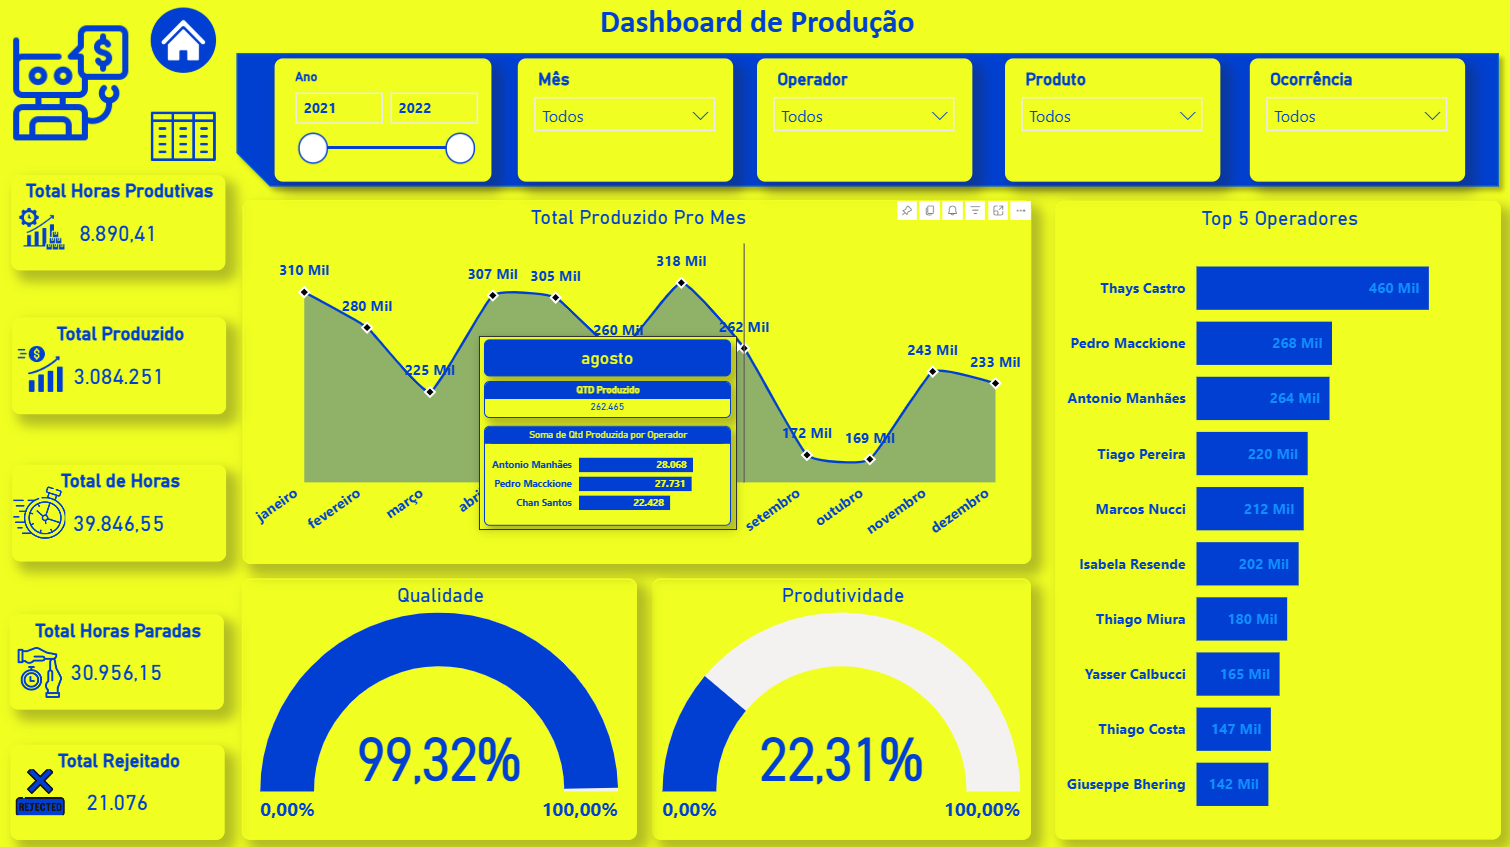

The page's visual inventory and layout, read from the dashboard file:
{"tool":"powerbi","page":{"name":"DashBoard","canvas":[1280,720],"ordinal":1},"visuals":[{"type":"shape","box":[192.6,38.9,1080.6,130.3],"z":0},{"type":"card","title":"Total  Produzido","fields":{"Values":["medidas.QTD produzido"]},"box":[12.6,270.4,179.9,80.7],"z":1000},{"type":"card","title":"Total  Rejeitado","fields":{"Values":["medidas.QTD rejeitado"]},"box":[11.7,630.3,179.9,79.8],"z":2000},{"type":"card","title":"Total  de Horas","fields":{"Values":["medidas.Total de horas"]},"box":[12.6,394.9,179.9,80.7],"z":3000},{"type":"card","title":"Total Horas Produtivas","fields":{"Values":["medidas.Horas Produtivas"]},"box":[12.4,150.7,180,79.8],"z":4000},{"type":"card","title":"Total Horas Paradas","fields":{"Values":["medidas.Total de horas paradas"]},"box":[10.7,520.4,179.9,79.8],"z":5000},{"type":"slicer","fields":{"Values":["BaseProdução.Operador"]},"box":[640,52.5,180.9,104.1],"z":6000},{"type":"slicer","fields":{"Values":["BaseProdução.Data Inicio.Variation.Hierarquia de datas.Mês"]},"box":[438.7,52.5,180.9,104.1],"z":7000},{"type":"slicer","fields":{"Values":["BaseProdução.Produto"]},"box":[848.1,52.5,180.9,104.1],"z":8000},{"type":"slicer","fields":{"Values":["BaseProdução.Ocorrência"]},"box":[1054.5,52.7,180.9,103.6],"z":9000},{"type":"slicer","fields":{"Values":["BaseProdução.Data Inicio.Variation.Hierarquia de datas.Ano"]},"box":[233.4,52.5,181.9,104.1],"z":10000},{"type":"areaChart","title":"Total Produzido Pro Mes","fields":{"Y":["medidas.QTD produzido"],"Category":["BaseProdução.Data Inicio.Variation.Hierarquia de datas.Mês"]},"box":[206.6,172,664.1,305.9],"z":11000},{"type":"barChart","title":"Top 5 Operadores","fields":{"Category":["BaseProdução.Operador"],"Y":["medidas.Quantidade real"]},"box":[890.9,172.2,375.4,537.9],"z":12000},{"type":"gauge","fields":{"Y":["medidas.Produtividade"]},"box":[551.5,490.2,319,219.8],"z":13000},{"type":"gauge","fields":{"Y":["medidas.Qualidade"]},"box":[206.2,490.2,332.6,219.8],"z":14000},{"type":"textbox","box":[0,0,1280,45.7],"z":15000},{"type":"image","box":[121.6,4.9,70,65],"z":16000},{"type":"image","box":[111.9,77.8,90,80],"z":17000},{"type":"image","box":[12.6,168.3,49.6,54.5],"z":18000},{"type":"image","box":[10.7,287.9,51.6,51.6],"z":19000},{"type":"image","box":[8.8,407.5,53.5,55.4],"z":20000},{"type":"image","box":[4.9,538.8,62.2,61.3],"z":21000},{"type":"image","box":[10.7,645.8,51.6,48.6],"z":22000},{"type":"image","box":[2.9,0,118.7,146.9],"z":23000}]}

Visuals, with their boxes in screenshot pixels (x1, y1, x2, y2), scaled from the page's 1280x720 canvas onto the 1510x847 screenshot:
shape: pyautogui.locateOnScreen(227, 46, 1502, 199)
"Total  Produzido" card: pyautogui.locateOnScreen(15, 318, 227, 413)
"Total  Rejeitado" card: pyautogui.locateOnScreen(14, 741, 226, 835)
"Total  de Horas" card: pyautogui.locateOnScreen(15, 465, 227, 559)
"Total Horas Produtivas" card: pyautogui.locateOnScreen(15, 177, 227, 271)
"Total Horas Paradas" card: pyautogui.locateOnScreen(13, 612, 225, 706)
slicer - BaseProdução.Operador: pyautogui.locateOnScreen(755, 62, 968, 184)
slicer - BaseProdução.Data Inicio.Variation.Hierarquia de datas.Mês: pyautogui.locateOnScreen(518, 62, 731, 184)
slicer - BaseProdução.Produto: pyautogui.locateOnScreen(1000, 62, 1214, 184)
slicer - BaseProdução.Ocorrência: pyautogui.locateOnScreen(1244, 62, 1457, 184)
slicer - BaseProdução.Data Inicio.Variation.Hierarquia de datas.Ano: pyautogui.locateOnScreen(275, 62, 490, 184)
"Total Produzido Pro Mes" areaChart: pyautogui.locateOnScreen(244, 202, 1027, 562)
"Top 5 Operadores" barChart: pyautogui.locateOnScreen(1051, 203, 1494, 835)
gauge - medidas.Produtividade: pyautogui.locateOnScreen(651, 577, 1027, 835)
gauge - medidas.Qualidade: pyautogui.locateOnScreen(243, 577, 636, 835)
textbox: pyautogui.locateOnScreen(0, 0, 1509, 54)
image: pyautogui.locateOnScreen(143, 6, 226, 82)
image: pyautogui.locateOnScreen(132, 92, 238, 186)
image: pyautogui.locateOnScreen(15, 198, 73, 262)
image: pyautogui.locateOnScreen(13, 339, 73, 399)
image: pyautogui.locateOnScreen(10, 479, 73, 545)
image: pyautogui.locateOnScreen(6, 634, 79, 706)
image: pyautogui.locateOnScreen(13, 760, 73, 817)
image: pyautogui.locateOnScreen(3, 0, 143, 173)
